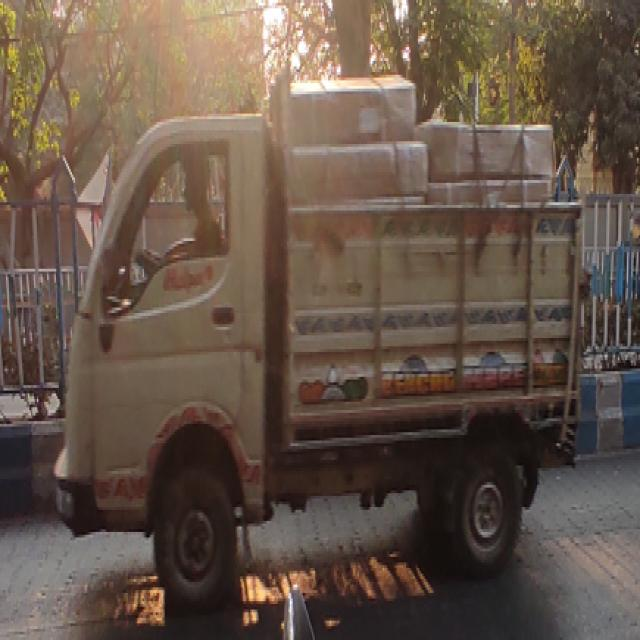minitruck: (48, 69, 586, 607)
